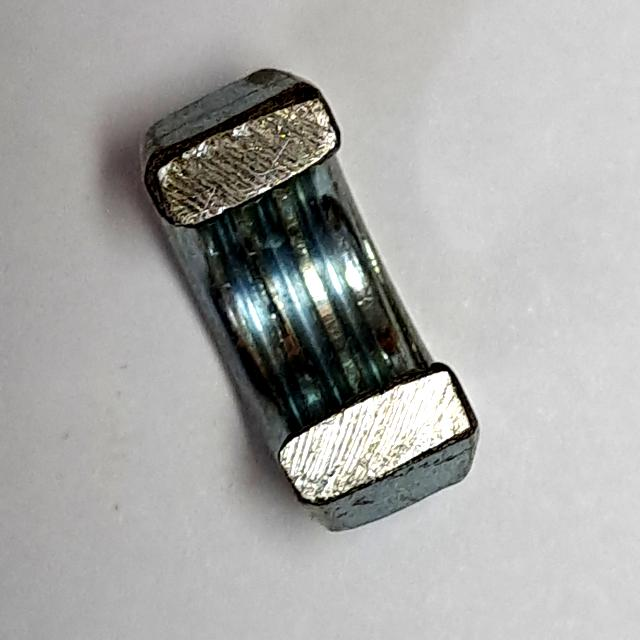Side-Fracture: (121, 49, 499, 551)
